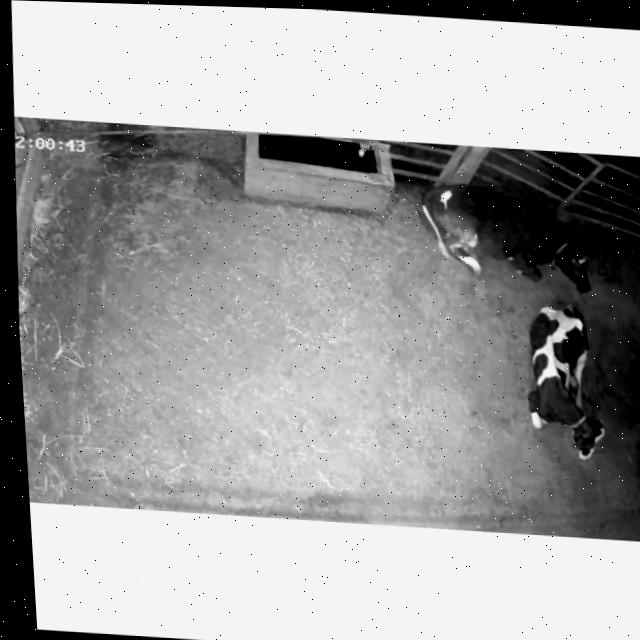lay: (410, 170, 609, 300), (515, 289, 617, 469)
